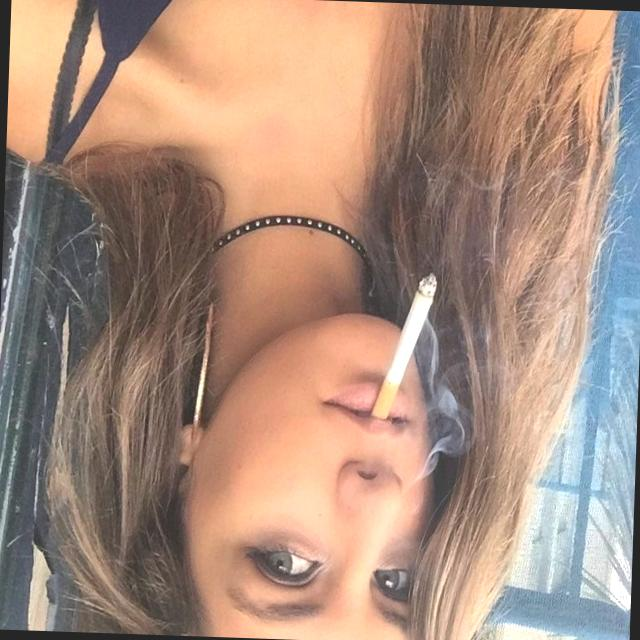cigarette: (361, 263, 444, 429)
